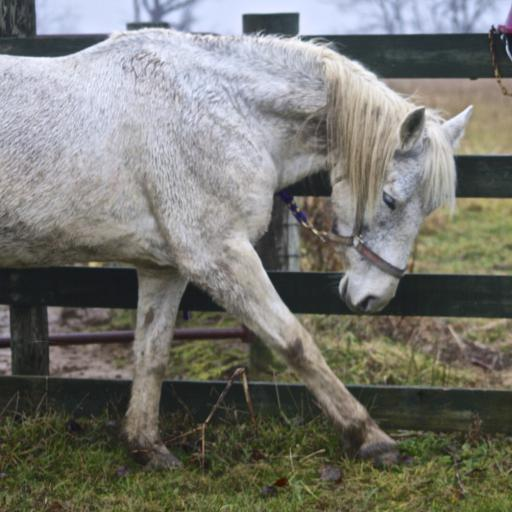horse: (0, 26, 478, 476)
